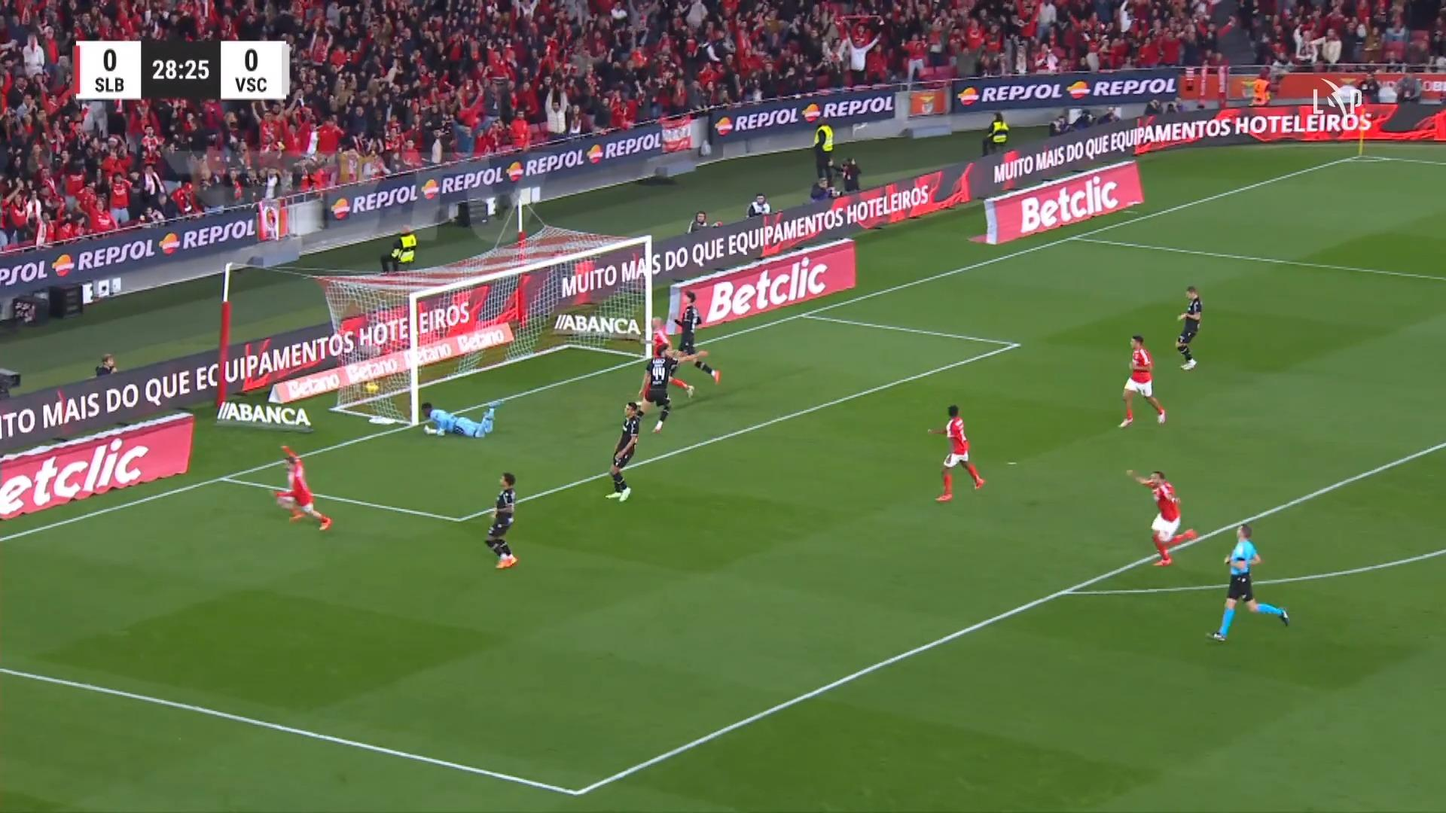ball: (365, 382, 378, 393)
goalkeeper: (419, 398, 502, 438)
player: (634, 342, 710, 434), (1126, 467, 1196, 566), (926, 403, 985, 502), (274, 443, 333, 531), (1118, 333, 1166, 428), (673, 291, 719, 384), (604, 400, 642, 502), (651, 315, 695, 399), (484, 471, 518, 568), (1175, 285, 1202, 370)
referee: (1205, 523, 1289, 642)
